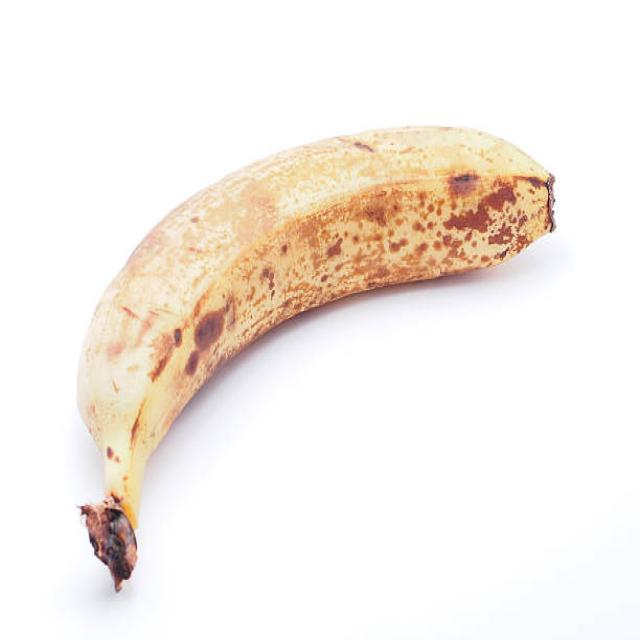overripe: (74, 117, 564, 491)
